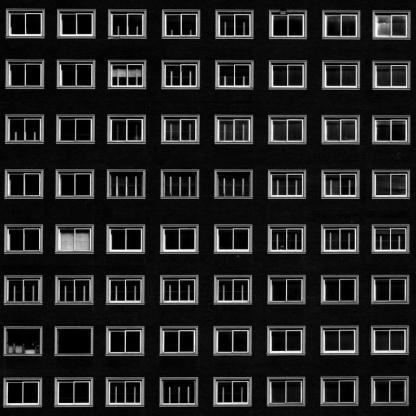Building Outline: (0, 0, 416, 416)
Facade: (0, 0, 416, 416)
Floor: (0, 103, 416, 155), (0, 159, 416, 210), (0, 50, 416, 99), (0, 214, 416, 262), (0, 266, 416, 313), (0, 317, 416, 364), (0, 0, 416, 46), (0, 368, 416, 412)
Floor Slab: (0, 412, 416, 416), (0, 99, 416, 103), (0, 156, 416, 160), (0, 210, 416, 214), (0, 262, 416, 266), (0, 313, 416, 317), (0, 364, 416, 368), (0, 47, 416, 51)
Sill: (212, 404, 253, 407), (371, 403, 411, 406), (3, 405, 43, 408), (54, 405, 94, 408), (105, 405, 145, 408), (267, 404, 307, 407), (372, 37, 412, 40), (5, 36, 45, 39), (56, 36, 96, 39), (107, 36, 147, 39), (161, 36, 201, 39), (215, 36, 255, 39), (268, 37, 308, 40), (321, 37, 361, 40), (372, 88, 412, 91), (268, 88, 308, 91), (321, 88, 361, 91), (55, 251, 95, 254), (106, 251, 146, 254), (160, 251, 200, 254), (213, 251, 253, 254), (3, 302, 43, 305), (54, 302, 94, 305), (105, 302, 145, 305), (159, 302, 199, 305), (212, 302, 252, 305), (267, 302, 307, 305), (370, 353, 410, 356), (3, 353, 43, 356), (54, 353, 94, 356), (105, 353, 145, 356), (159, 353, 199, 356), (212, 353, 252, 356), (267, 353, 307, 356), (159, 404, 199, 407), (4, 251, 43, 254), (321, 302, 360, 305), (320, 353, 359, 356), (320, 404, 359, 407), (5, 87, 45, 89), (56, 87, 96, 89), (107, 87, 147, 89), (161, 87, 201, 89), (215, 87, 255, 89), (372, 143, 412, 145), (5, 142, 45, 144), (56, 142, 96, 144), (107, 142, 147, 144), (160, 142, 200, 144), (214, 142, 254, 144), (268, 143, 308, 145), (321, 143, 361, 145), (371, 198, 411, 200), (4, 197, 44, 199), (55, 197, 95, 199), (106, 197, 146, 199), (160, 197, 200, 199), (213, 197, 253, 199), (267, 198, 307, 200), (320, 198, 360, 200), (371, 253, 411, 255), (267, 253, 307, 255), (320, 253, 360, 255), (370, 302, 410, 304)
Window: (6, 381, 40, 406), (57, 381, 91, 406), (108, 380, 142, 405), (162, 379, 196, 404), (216, 379, 250, 404), (270, 379, 304, 404), (375, 13, 409, 38), (9, 11, 43, 36), (60, 11, 94, 36), (110, 11, 144, 36), (165, 11, 199, 36), (218, 11, 252, 36), (272, 13, 306, 38), (325, 13, 359, 38), (375, 63, 409, 88), (9, 62, 43, 87), (60, 62, 94, 87), (110, 62, 144, 87), (165, 62, 199, 87), (218, 62, 252, 87), (272, 63, 306, 88), (325, 63, 359, 88), (375, 118, 409, 143), (9, 117, 43, 142), (60, 117, 94, 142), (110, 117, 144, 142), (165, 117, 199, 142), (218, 117, 252, 142), (271, 118, 305, 143), (325, 118, 359, 143), (374, 173, 408, 198), (8, 172, 42, 197), (58, 172, 92, 197), (109, 172, 143, 197), (164, 172, 198, 197), (217, 172, 251, 197), (270, 173, 304, 198), (324, 173, 358, 198), (374, 228, 408, 253), (8, 227, 42, 252), (58, 227, 92, 252), (109, 227, 143, 252), (164, 227, 198, 252), (217, 227, 251, 252), (270, 228, 304, 253), (324, 228, 358, 253), (373, 277, 407, 302), (6, 278, 40, 303), (57, 278, 91, 303), (108, 278, 142, 303), (162, 278, 196, 303), (216, 278, 250, 303), (270, 278, 304, 303), (323, 277, 357, 302), (6, 329, 40, 354), (57, 329, 91, 354), (108, 329, 142, 354), (162, 329, 196, 354), (216, 329, 250, 354), (269, 329, 303, 354), (323, 328, 357, 353), (323, 379, 356, 404), (374, 328, 407, 353), (374, 379, 407, 404)
Window Outline: (214, 114, 254, 142), (6, 59, 45, 87), (57, 59, 96, 87), (162, 59, 201, 87), (215, 59, 254, 87), (372, 115, 411, 143), (6, 114, 45, 142), (57, 114, 96, 142), (161, 114, 200, 142), (268, 115, 307, 143), (322, 115, 361, 143), (371, 170, 410, 198), (5, 169, 44, 197), (161, 169, 200, 197), (214, 169, 253, 197), (321, 170, 360, 198), (371, 225, 410, 253), (321, 225, 360, 253), (108, 59, 146, 87), (108, 114, 146, 142), (56, 169, 94, 197), (107, 169, 145, 197), (268, 170, 306, 198), (268, 225, 306, 253), (320, 377, 359, 404), (372, 10, 411, 37), (6, 9, 45, 36), (57, 9, 96, 36), (162, 9, 201, 36), (215, 9, 254, 36), (269, 10, 308, 37), (322, 10, 361, 37), (372, 61, 411, 88), (269, 61, 308, 88), (322, 61, 361, 88), (4, 224, 43, 251), (161, 224, 200, 251), (214, 224, 253, 251), (106, 275, 145, 302), (213, 275, 252, 302), (267, 275, 306, 302), (213, 326, 252, 353), (320, 326, 359, 353), (4, 378, 42, 405), (55, 378, 93, 405), (106, 378, 144, 405), (267, 377, 305, 404), (108, 9, 146, 36), (56, 224, 94, 251), (107, 224, 145, 251), (371, 275, 409, 302), (4, 275, 42, 302), (55, 275, 93, 302), (160, 275, 198, 302), (321, 275, 359, 302), (371, 326, 409, 353), (4, 326, 42, 353), (55, 326, 93, 353), (106, 326, 144, 353), (160, 326, 198, 353), (267, 326, 305, 353), (371, 377, 409, 404), (213, 378, 252, 404), (160, 378, 198, 404)
